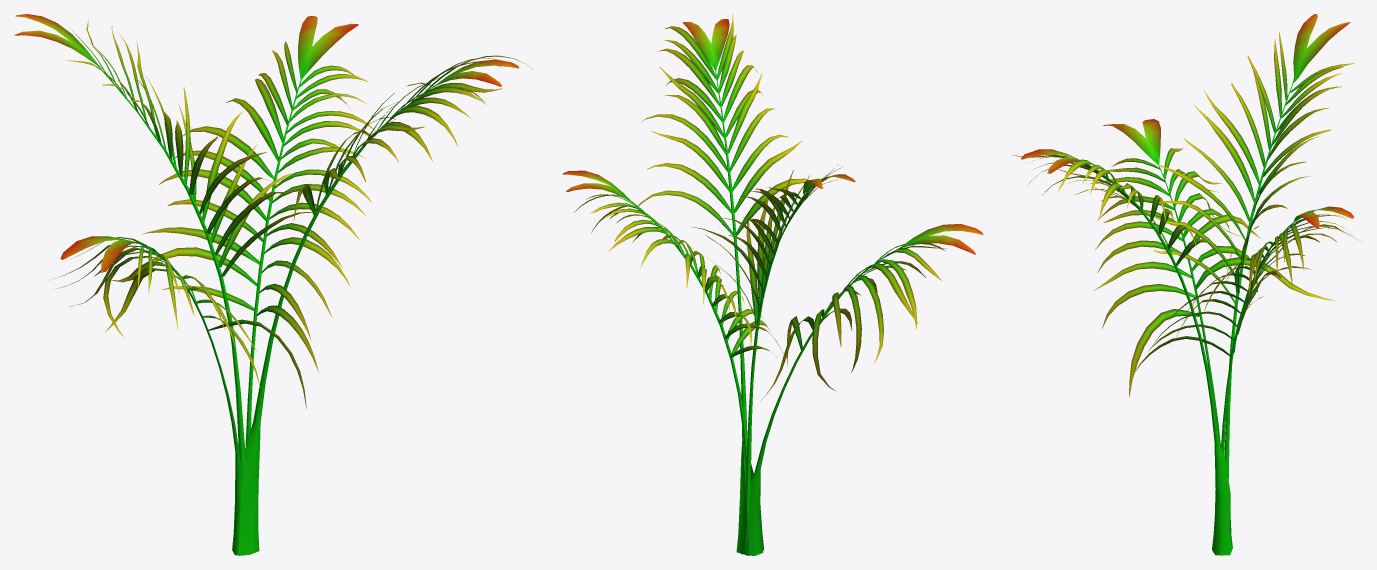
File: Alexandra Palm_LOD2_Var4_ukgkcilia.fbx
3 renders of one model, left to right at view 1: azimuth 30°, elevation 25°; view 2: azimuth 150°, elevation 25°; view 3: azimuth 270°, elevation 25°, orthographic. The views are drawn at different scales.
Visible parts, largest first — view 1: _n7ck_Var4_LOD2; view 2: _n7ck_Var4_LOD2; view 3: _n7ck_Var4_LOD2.
Boxes of the visible parts, x1,y1,x2,y2 form: _n7ck_Var4_LOD2: (14,14,533,555); _n7ck_Var4_LOD2: (562,14,983,555); _n7ck_Var4_LOD2: (1012,14,1362,555).
Bounding box in the file's own units: 39.74 × 47.01 × 32.37.
